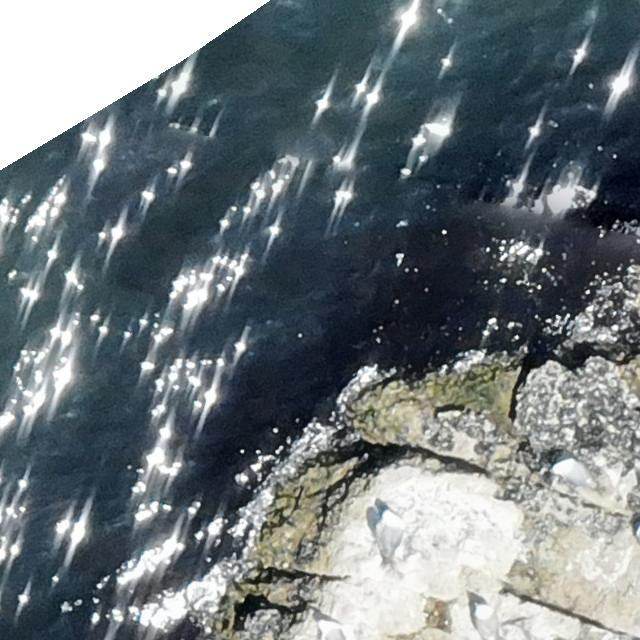umineko: (376, 509, 406, 569), (554, 456, 602, 492), (475, 604, 506, 640), (317, 617, 348, 639)
